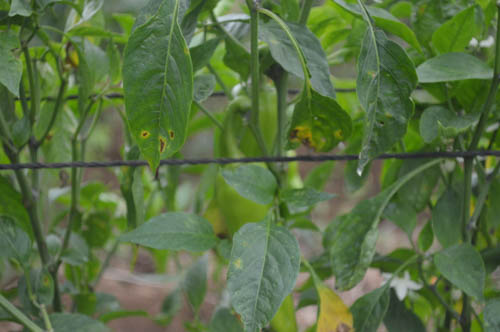ChiliPepper: (221, 175, 296, 330), (235, 84, 280, 162)
